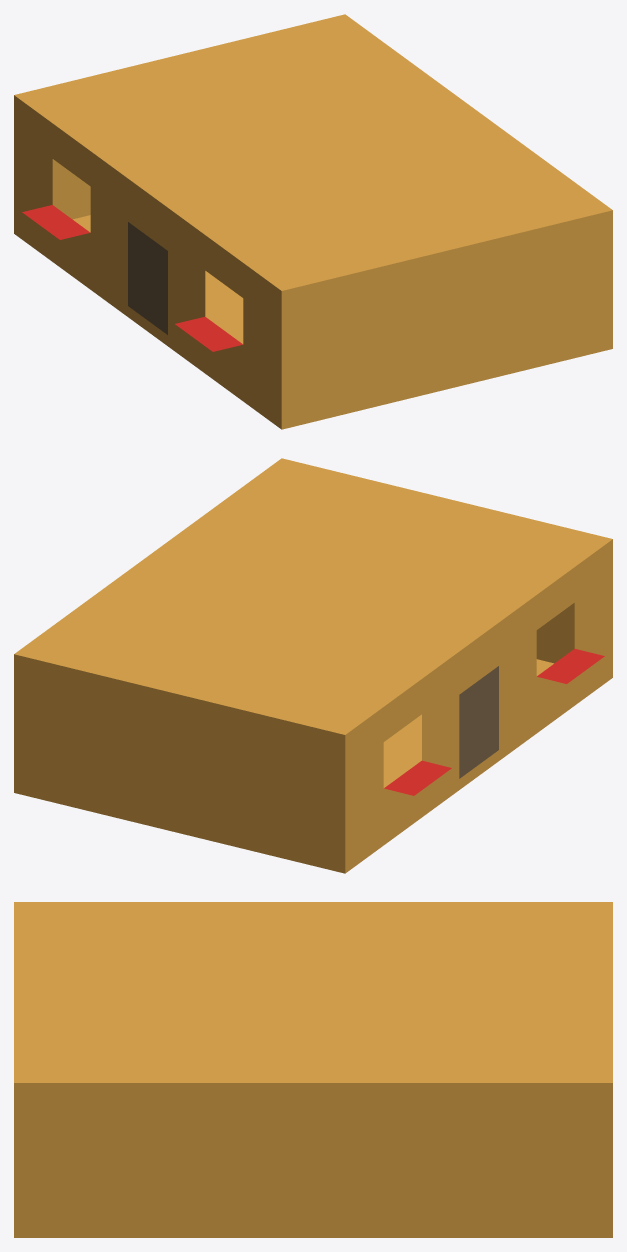
Rendered from house2-low.fbx.
3 views of the same model, one above another, from view 1: azimuth 30°, elevation 25°; view 2: azimuth 150°, elevation 25°; view 3: azimuth 270°, elevation 25° (orthographic). The views are drawn at different scales.
Visible parts, largest first — view 1: House2-low; view 2: House2-low; view 3: House2-low.
Boxes of the visible parts, x1,y1,x2,y2 form: House2-low: [14, 14, 612, 429]; House2-low: [14, 458, 612, 873]; House2-low: [14, 902, 612, 1237].
Bounding box in the file's own units: 10.92 × 14 × 4.
